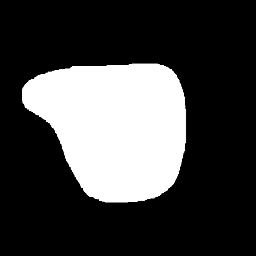mass: (34, 54, 195, 196)
